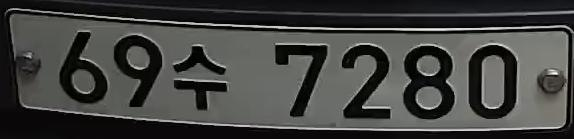0: (461, 44, 528, 119)
2: (331, 37, 400, 123)
6: (49, 27, 112, 108)
7: (267, 38, 332, 123)
8: (397, 40, 461, 120)
9: (113, 29, 167, 111)
수: (168, 39, 235, 117)
